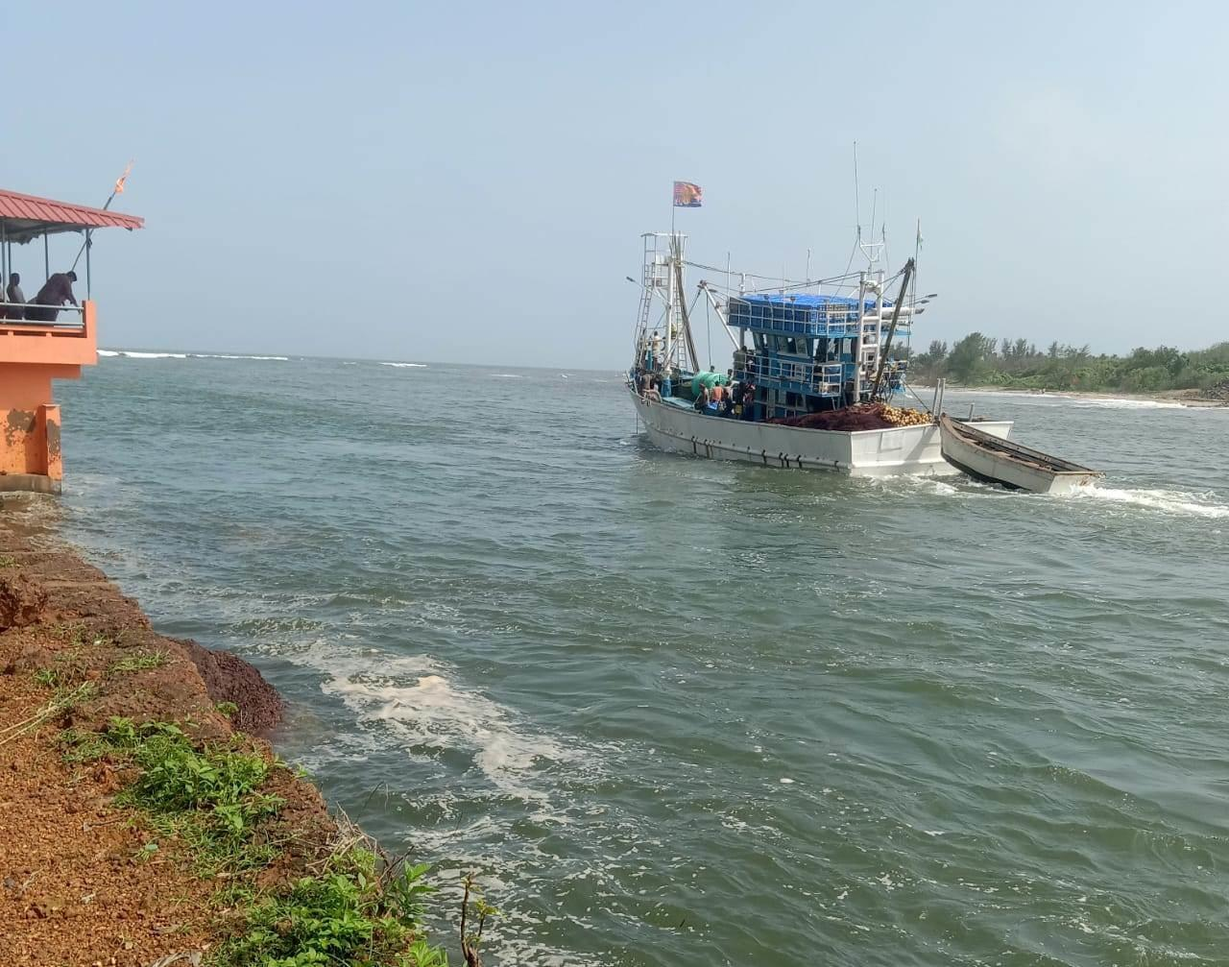fishing boat: (620, 141, 1019, 483), (935, 401, 1115, 498)
